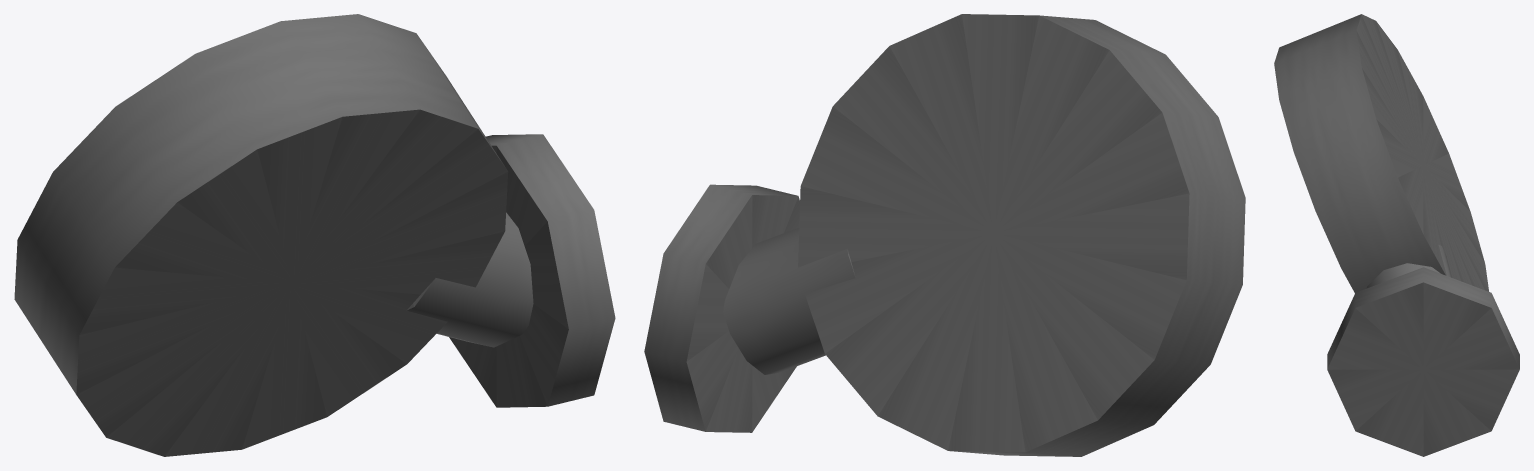
Rendered from mastarmcurve_4x1_c0_east.obj.
3 renders of one model, left to right at view 1: azimuth 30°, elevation 25°; view 2: azimuth 150°, elevation 25°; view 3: azimuth 270°, elevation 25°, orthographic. The views are drawn at different scales.
Visible parts, largest first — view 1: mastarm_4x1_c0_east; view 2: mastarm_4x1_c0_east; view 3: mastarm_4x1_c0_east.
Boxes of the visible parts, x1,y1,x2,y2 form: mastarm_4x1_c0_east: (14,14,615,456); mastarm_4x1_c0_east: (644,14,1245,456); mastarm_4x1_c0_east: (1274,14,1519,456).
Bounding box in the file's own units: 0.8392 × 0.7449 × 0.5102.
